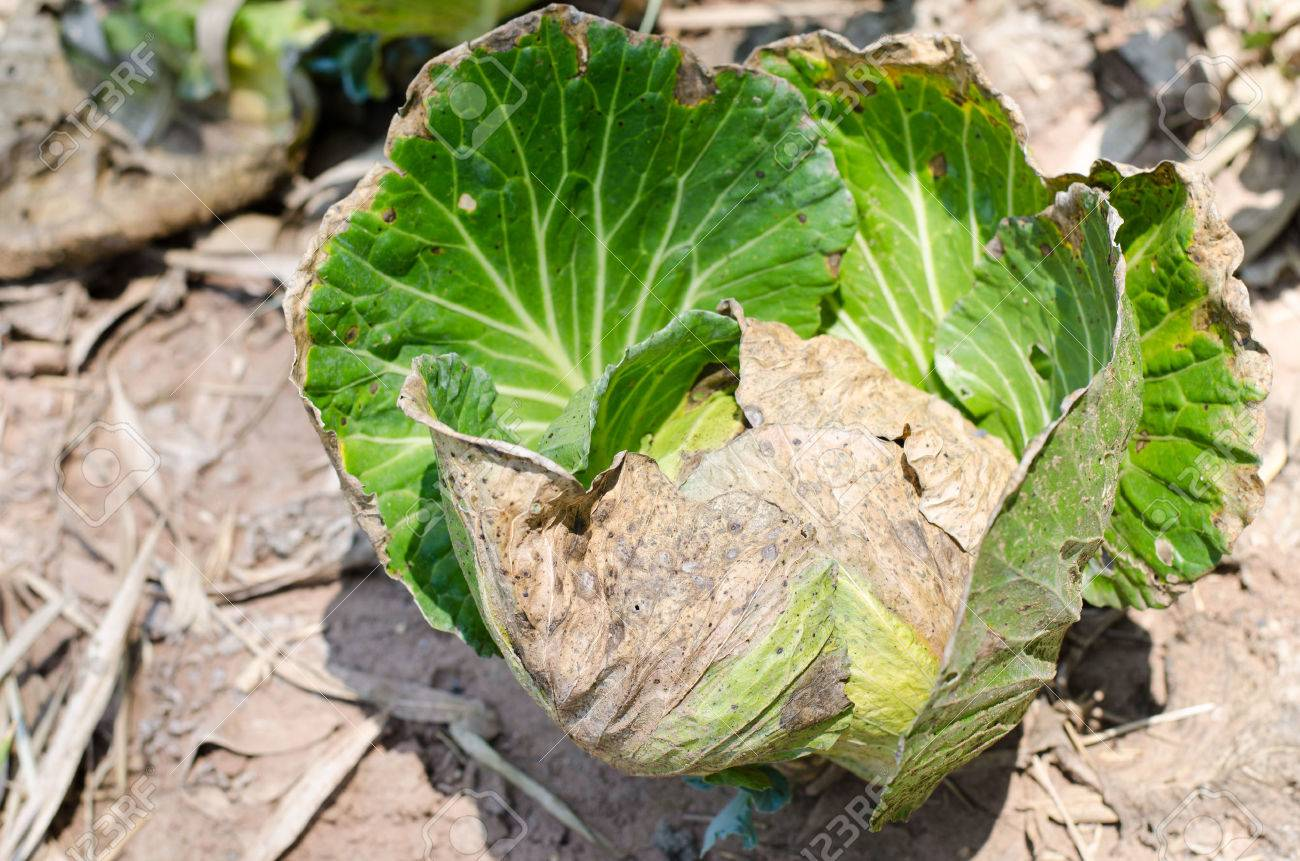Cabbage_Blight: (391, 357, 979, 746)
